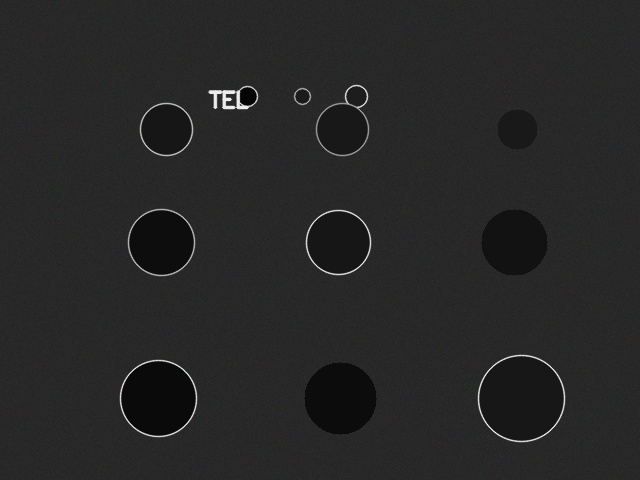hole: (478, 355, 564, 441), (120, 360, 196, 436), (304, 362, 376, 434), (128, 209, 194, 275), (481, 209, 547, 275), (306, 210, 370, 274), (140, 103, 192, 155), (316, 103, 368, 155), (497, 109, 537, 149), (345, 85, 367, 107), (237, 86, 257, 106), (294, 88, 310, 104)
